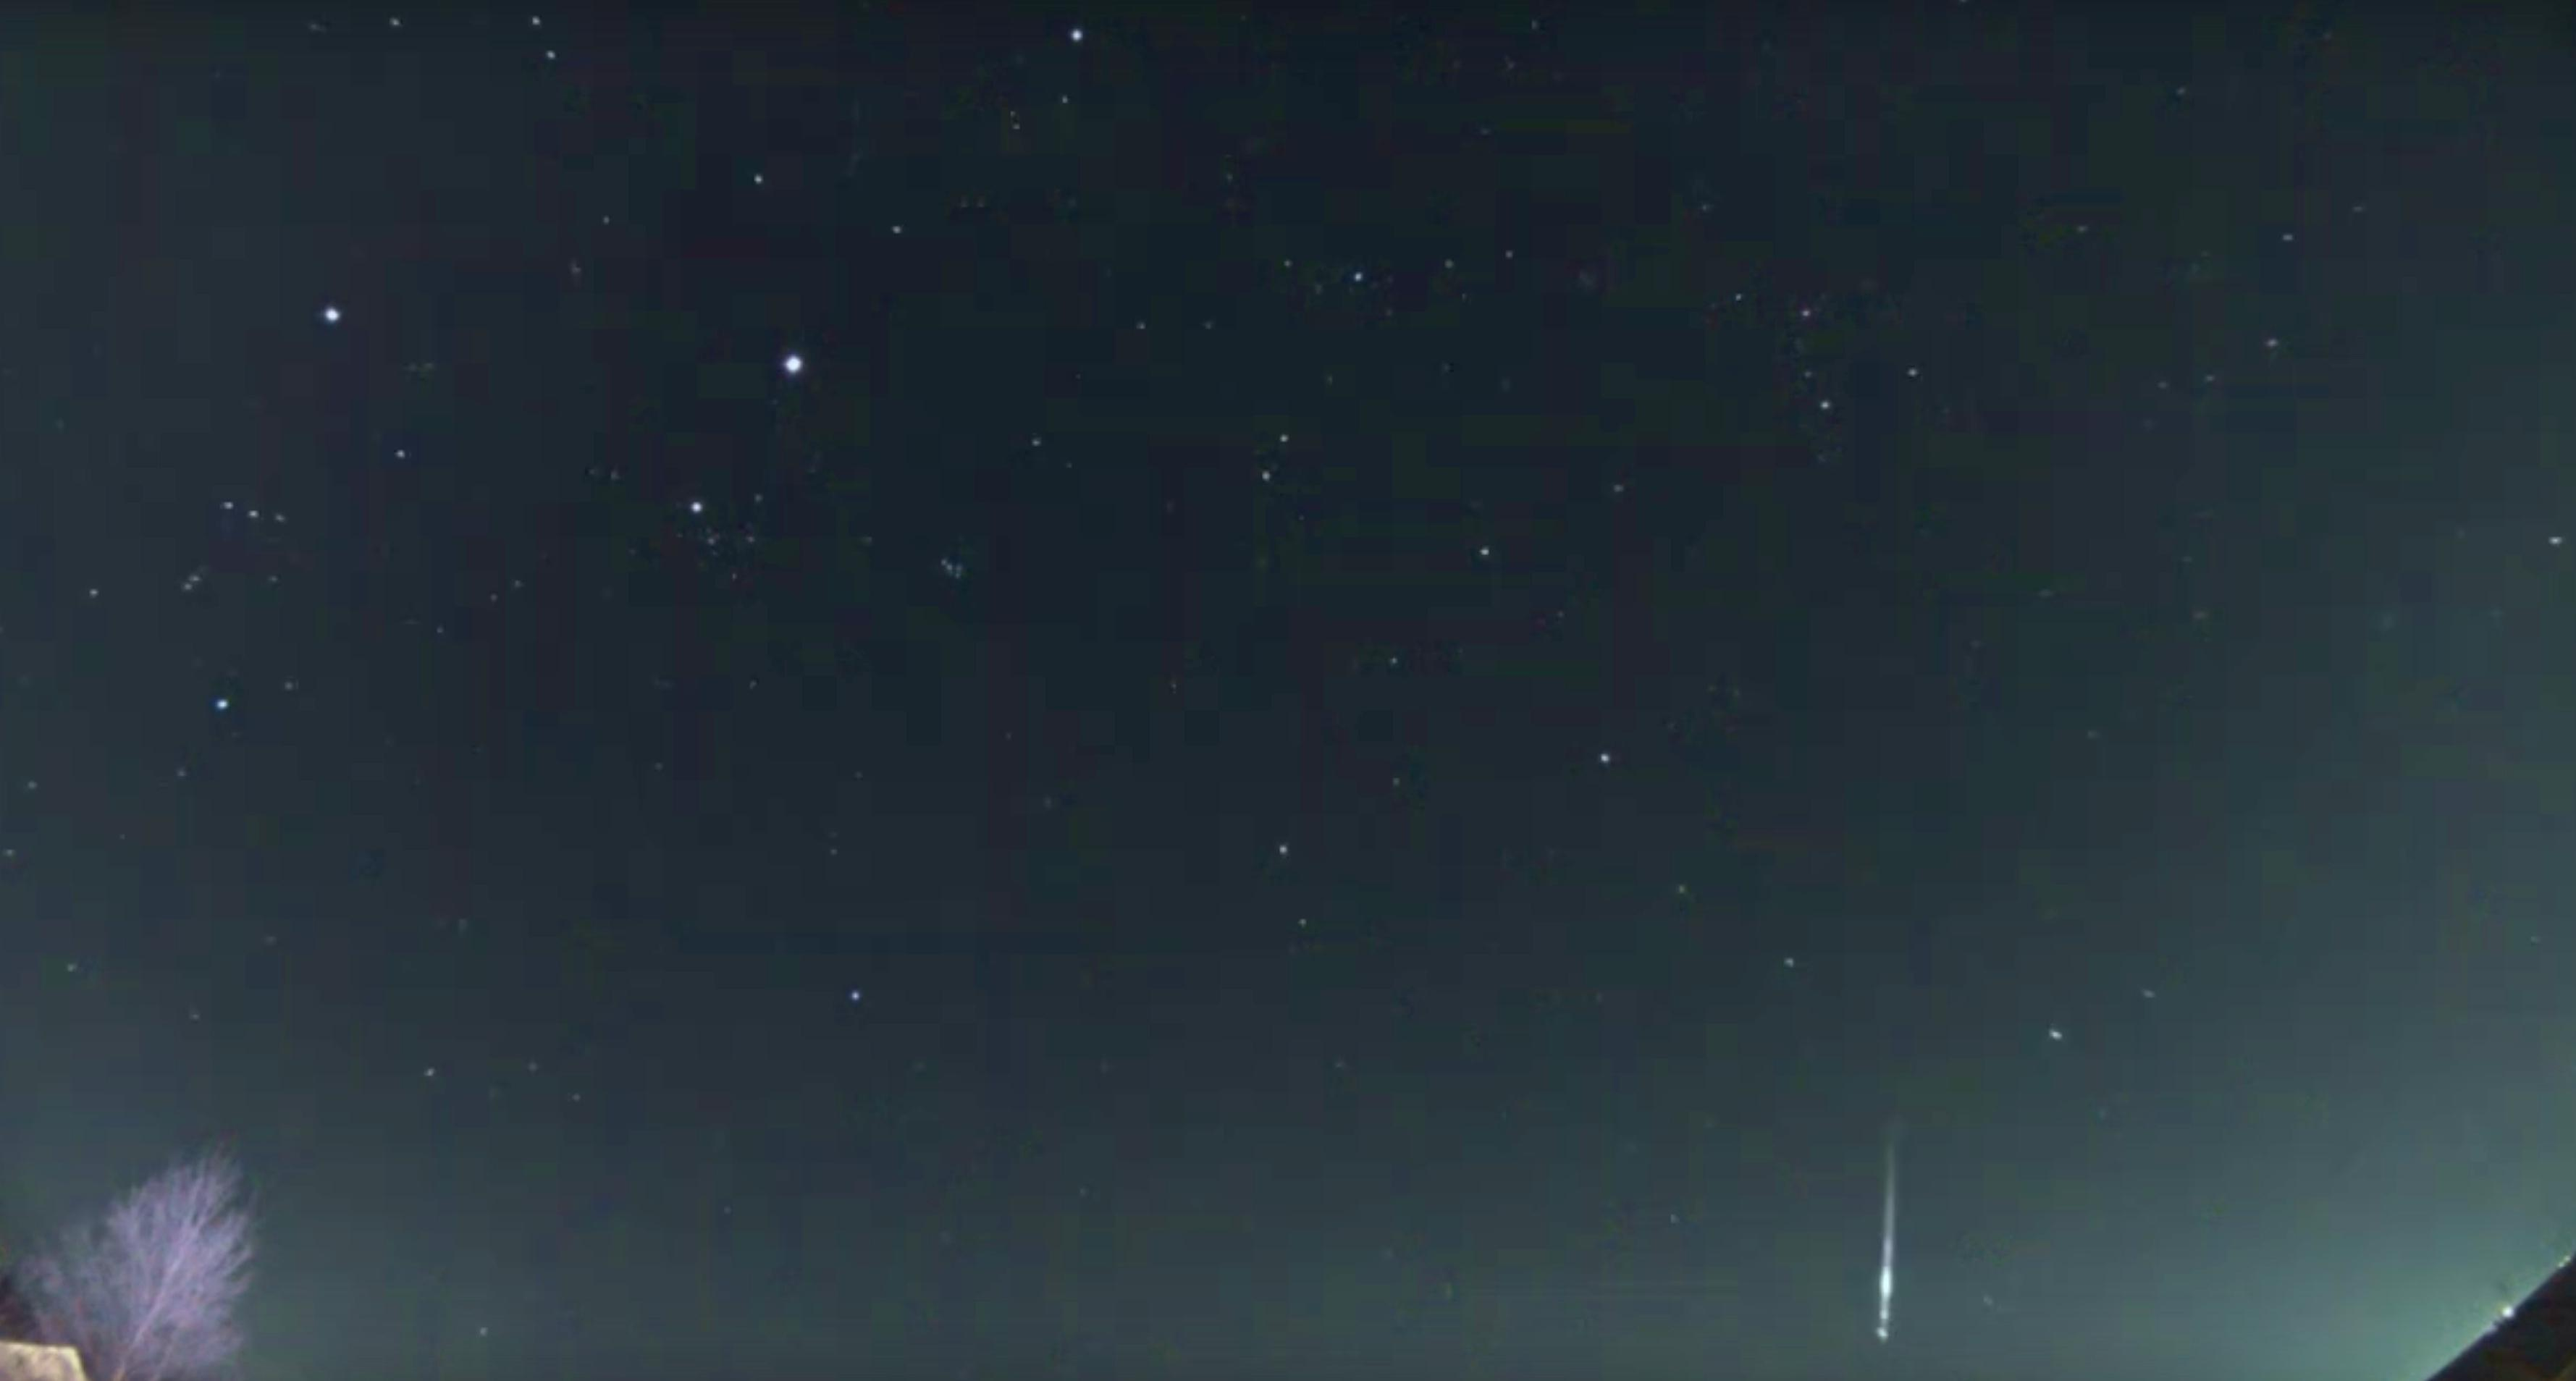meteorite: (1835, 1105, 1942, 1342)
